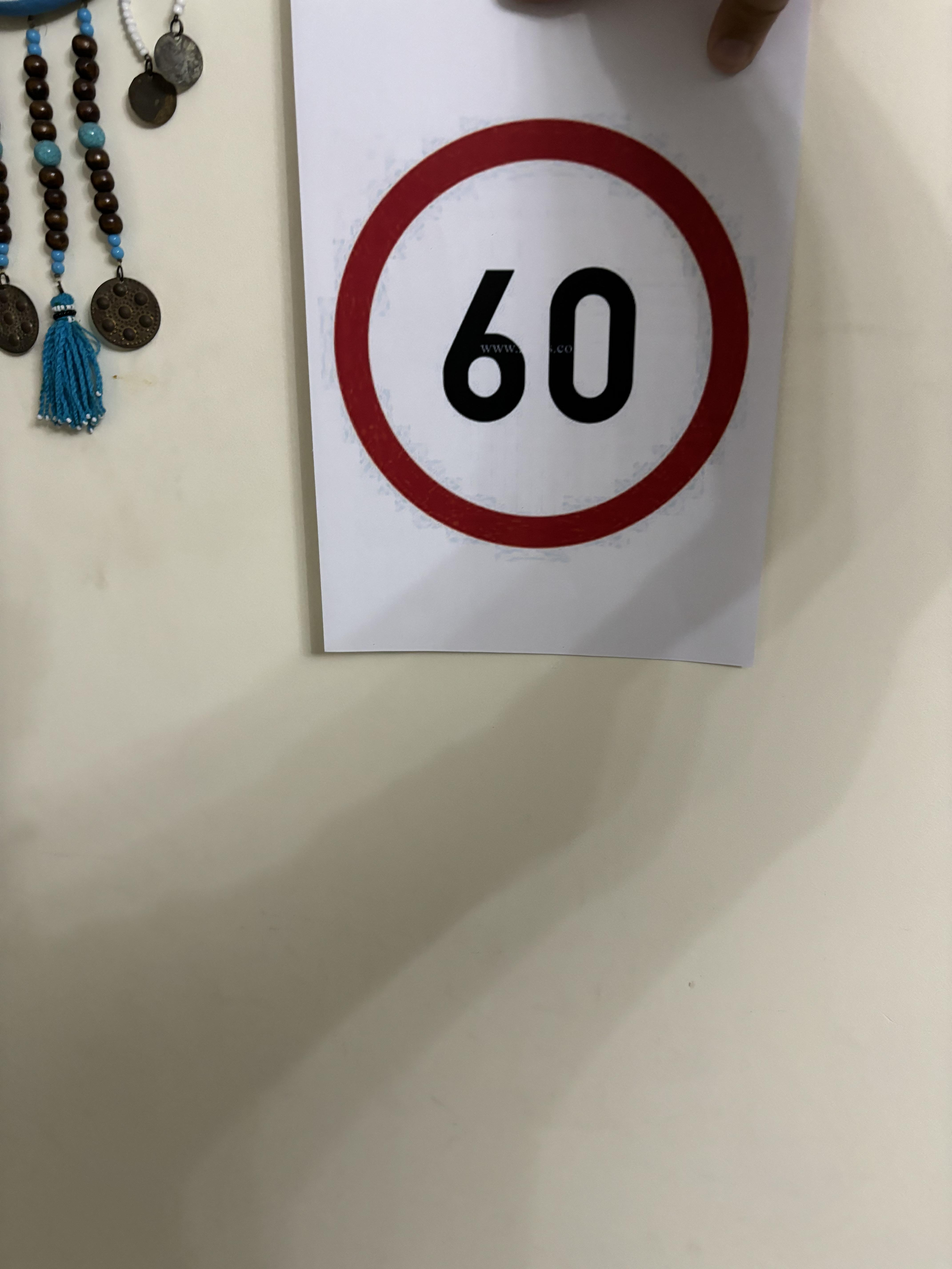60-Speed: (323, 112, 765, 557)
